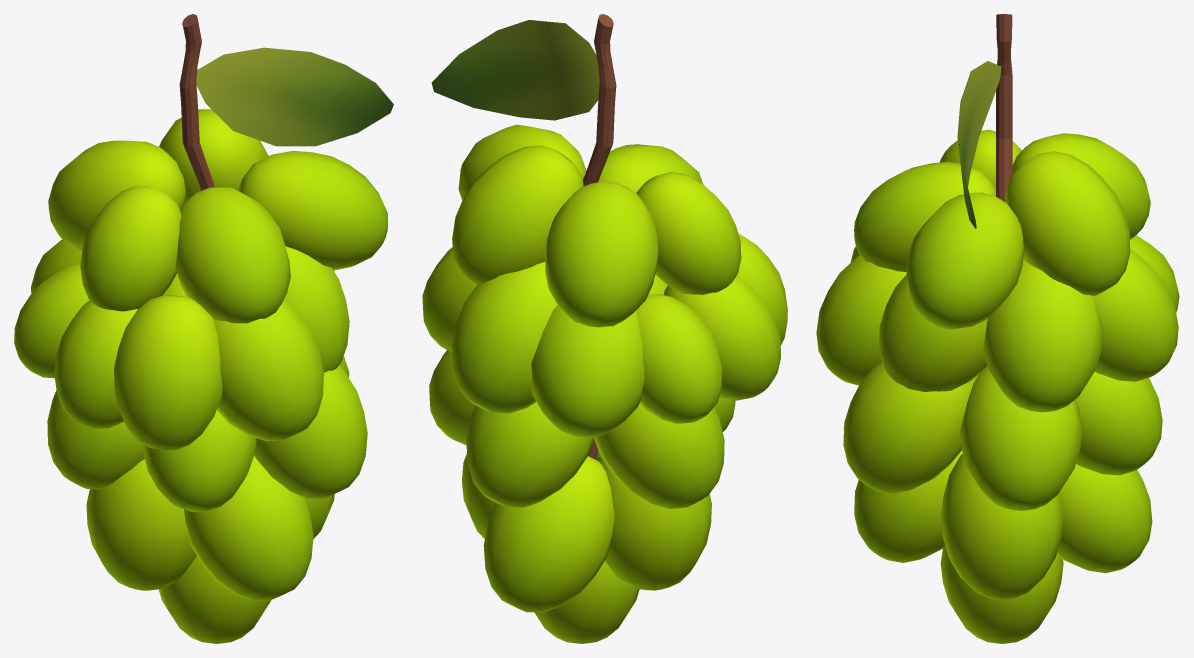
The model's file is Grapes.fbx.
3 views of the same model, side by side, from view 1: azimuth 30°, elevation 25°; view 2: azimuth 150°, elevation 25°; view 3: azimuth 270°, elevation 25° (orthographic). The views are drawn at different scales.
Parts seen in each view (by area): view 1: Grapes; view 2: Grapes; view 3: Grapes.
Boxes of the visible parts, x1,y1,x2,y2 form: Grapes: [14, 14, 393, 643]; Grapes: [422, 14, 787, 643]; Grapes: [816, 14, 1179, 643].
Bounding box in the file's own units: 0.505 × 0.8981 × 0.4807.
Materials: 1 (1 with a texture image).
